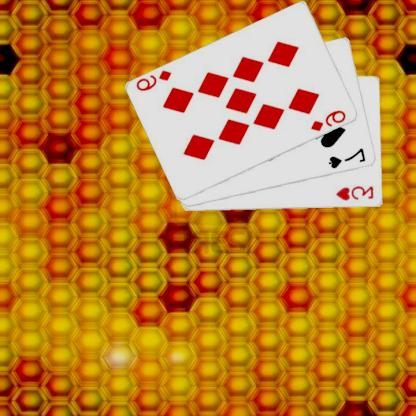3H: (335, 183, 377, 202)
7S: (328, 145, 369, 170)
9D: (310, 107, 349, 133), (135, 68, 175, 92)
